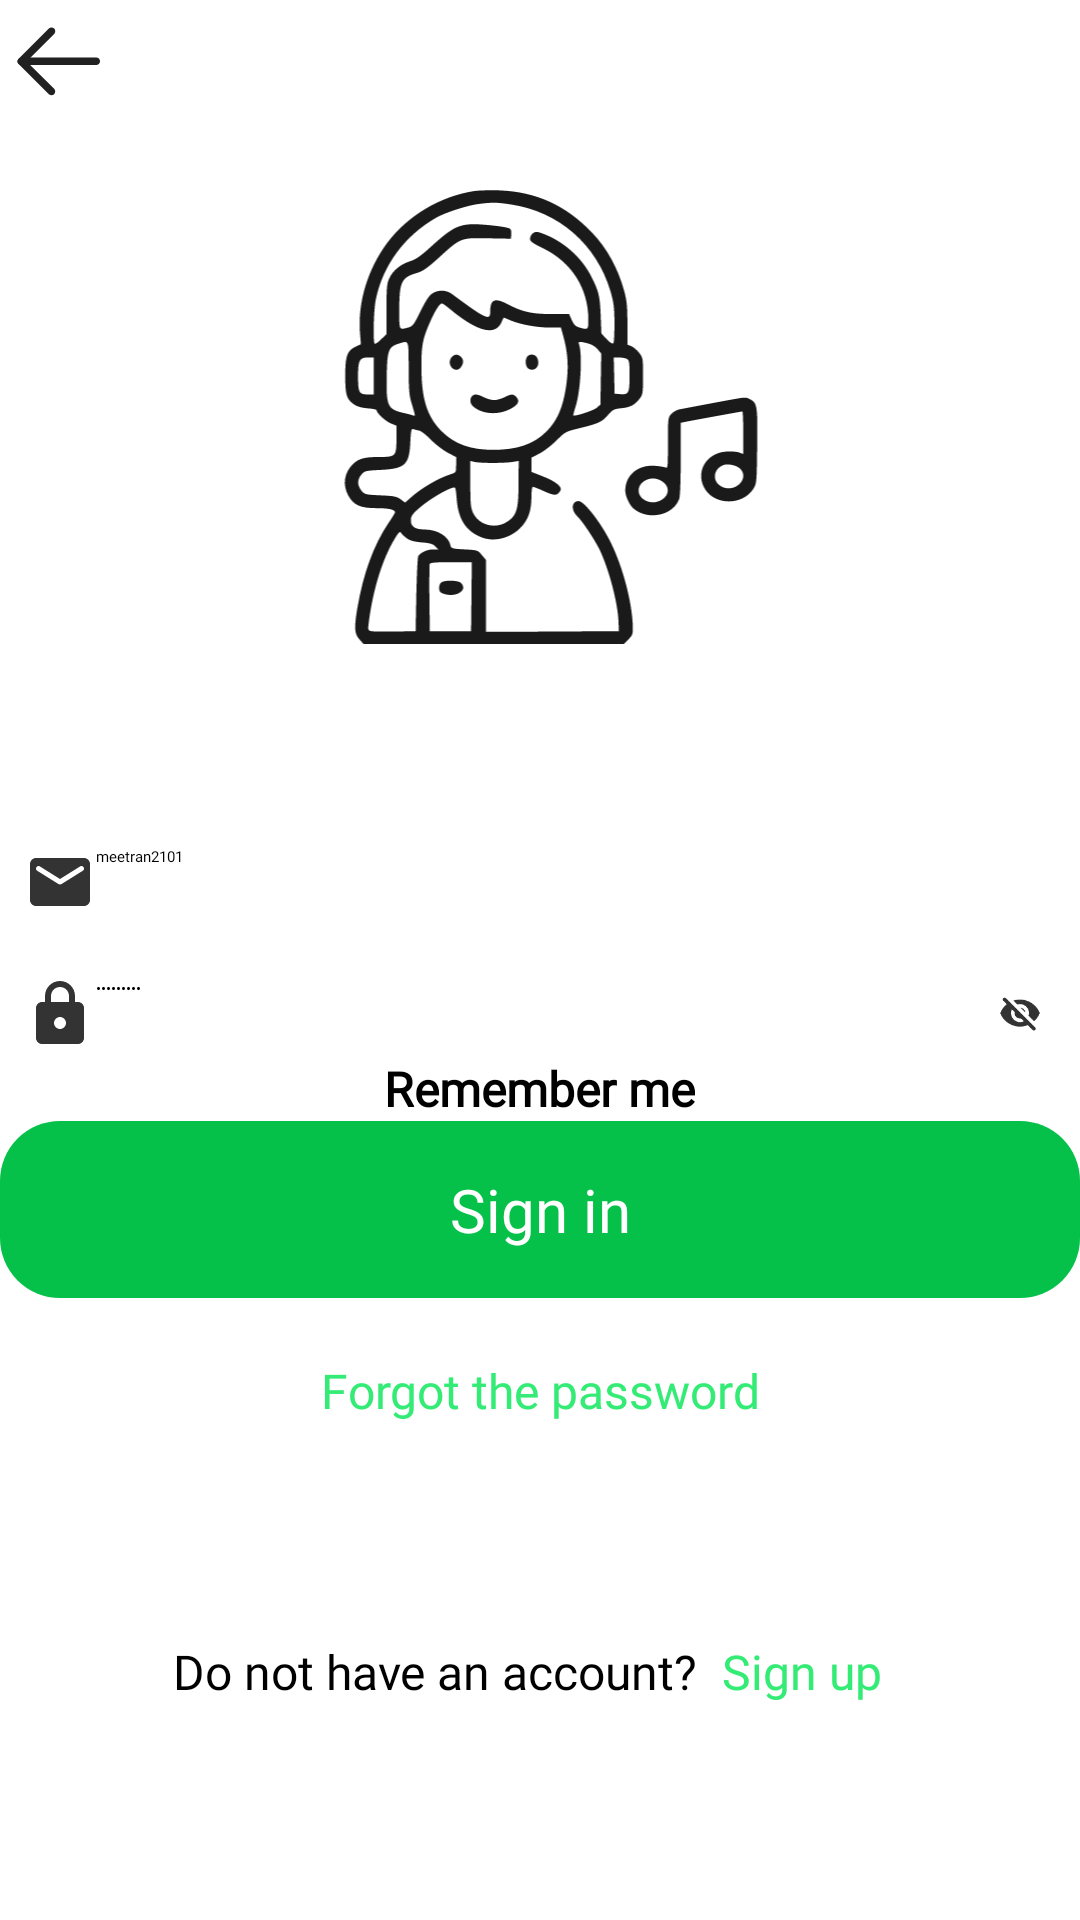

Icon bounding boxes for this 1080 × 1920 phone screenshot, format (x1, y1, x2, y2):
arrow back: (17, 27, 100, 96)
